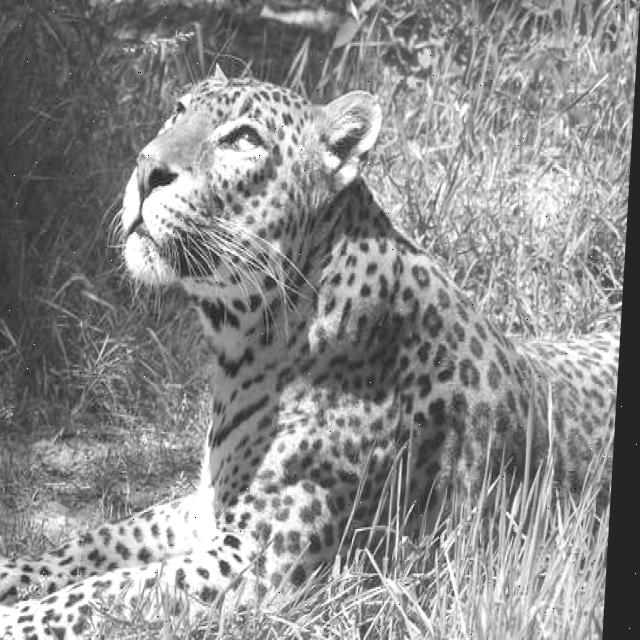Leopard: (0, 61, 635, 638)
